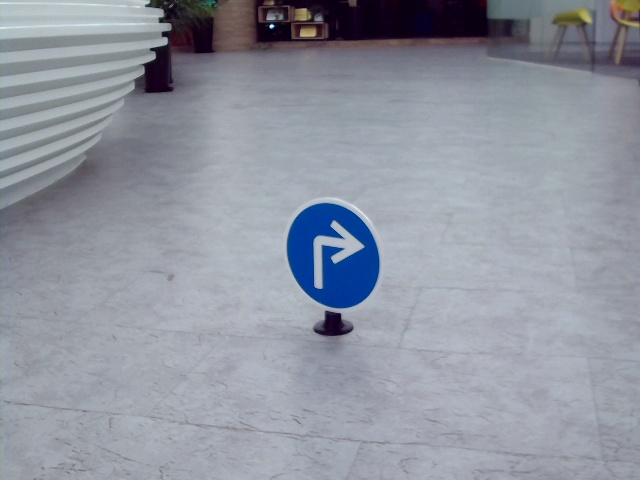turn_right: (303, 221, 361, 292)
